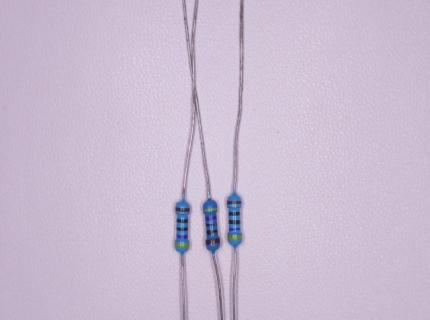Black band: (206, 229, 218, 235), (228, 219, 240, 225), (229, 211, 241, 216), (177, 218, 188, 223), (206, 223, 217, 228), (176, 227, 188, 231)
Brown band: (205, 238, 221, 245), (175, 208, 190, 213), (227, 201, 241, 205)
Violet band: (205, 215, 216, 222), (176, 234, 188, 239), (229, 227, 240, 231)
Yellow band: (175, 242, 190, 248), (202, 208, 218, 213), (228, 235, 242, 240)
